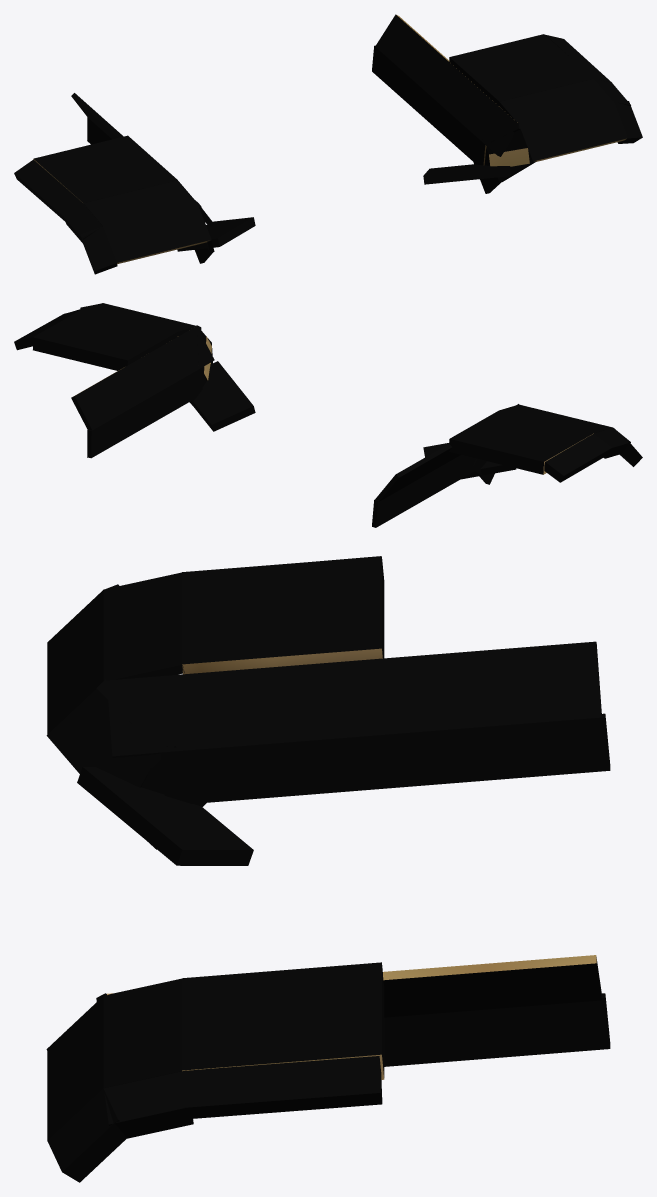
The model's file is detal.obj.
The picture shows the model from 3 angles, top to bottom: view 1: azimuth 30°, elevation 25°; view 2: azimuth 150°, elevation 25°; view 3: azimuth 270°, elevation 25°; orthographic projection. The views are drawn at different scales.
Parts seen in each view (by area): view 1: detal1; view 2: detal1; view 3: detal1.
Part boxes in pixels (box(x1,y1,x2,y2)): detal1: box(14, 14, 642, 274); detal1: box(14, 303, 642, 527); detal1: box(46, 556, 610, 1182).
Size of the model in its own units: 4.06 by 0.6687 by 1.8.
